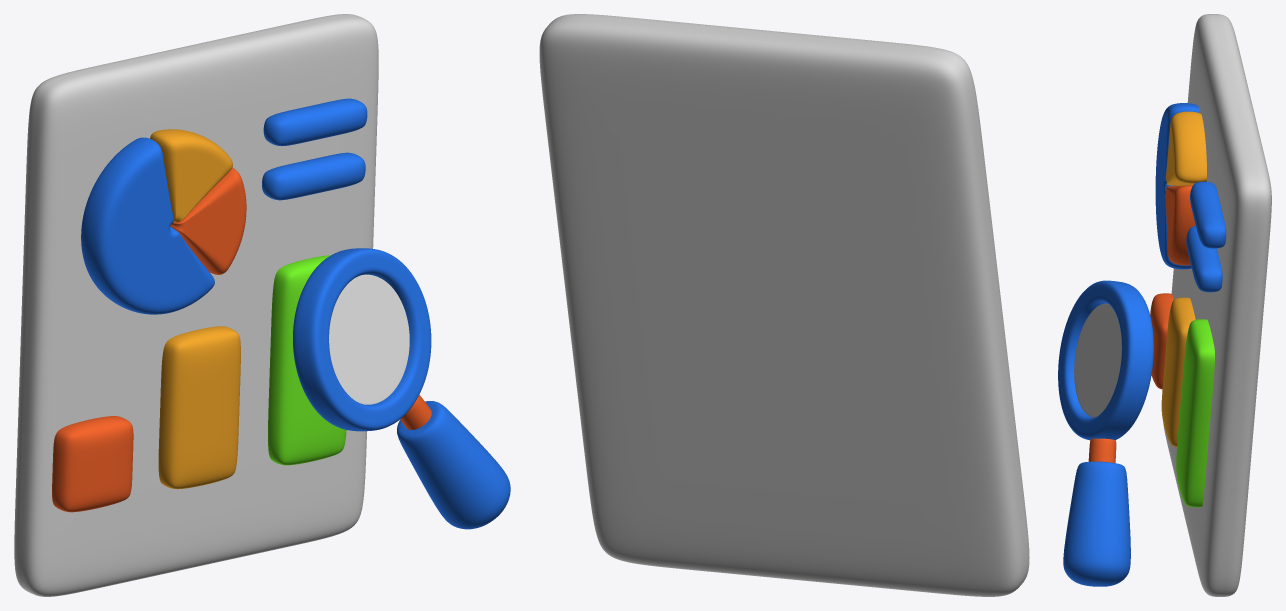
Rendered from market-research-3d-animated-icon-1384781861127.glb.
3 views of the same model, side by side, from view 1: azimuth 30°, elevation 25°; view 2: azimuth 150°, elevation 25°; view 3: azimuth 270°, elevation 25° (orthographic). The views are drawn at different scales.
Visible parts, largest first — view 1: paper, magnifying glass, chart, pie chart, data; view 2: paper; view 3: paper, magnifying glass, chart, pie chart, data.
Part boxes in pixels (x1,y1,x2,y2): paper: [14, 14, 378, 596]; magnifying glass: [293, 248, 510, 529]; chart: [52, 255, 346, 512]; pie chart: [81, 129, 246, 314]; data: [262, 98, 367, 200]; paper: [539, 14, 1029, 596]; paper: [1163, 14, 1271, 596]; magnifying glass: [1058, 280, 1153, 586]; chart: [1150, 293, 1214, 507]; pie chart: [1155, 103, 1206, 269]; data: [1186, 181, 1226, 292].
Bounding box in the file's own units: 2.6 × 2.96 × 1.25.
